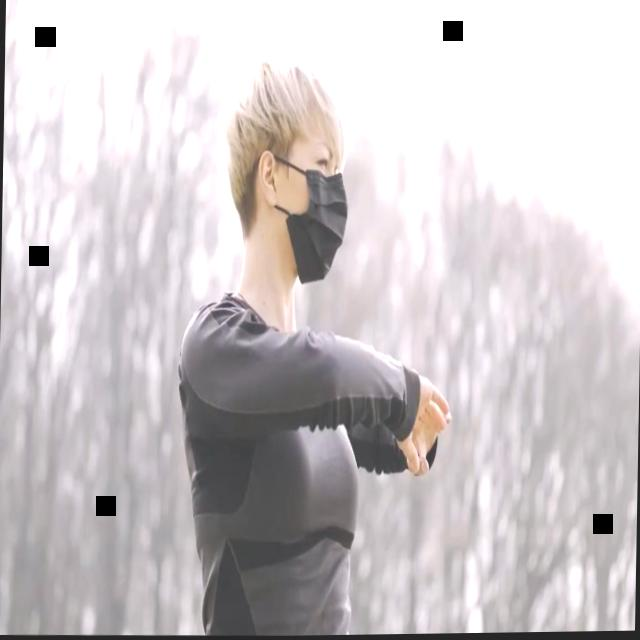Mask: (273, 142, 348, 286)
